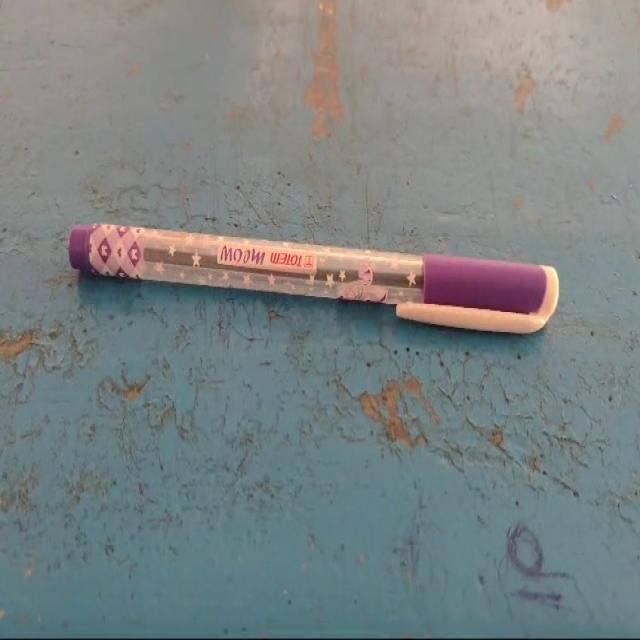pen: (46, 128, 595, 434)
